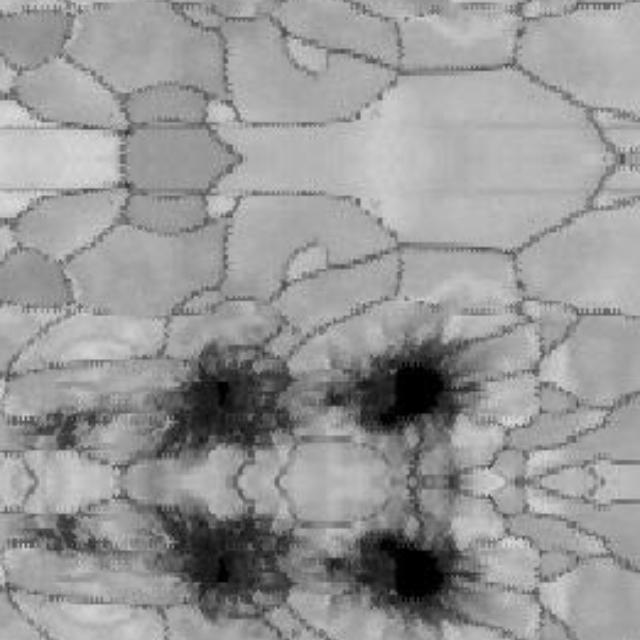good_void: (316, 311, 486, 481), (316, 482, 486, 640), (150, 337, 305, 464), (150, 500, 305, 627), (33, 407, 113, 453), (33, 510, 113, 556)
